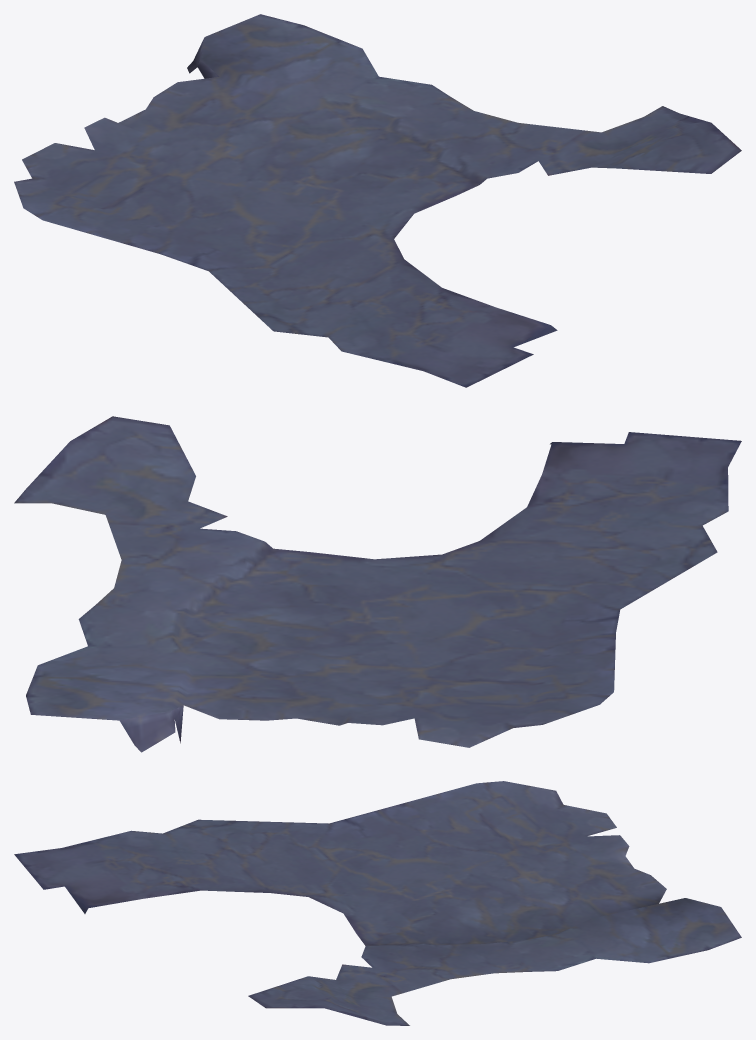
File: jifendixia_lumian.FBX
3 views of the same model, one above another, from view 1: azimuth 30°, elevation 25°; view 2: azimuth 150°, elevation 25°; view 3: azimuth 270°, elevation 25° (orthographic). The views are drawn at different scales.
Parts seen in each view (by area): view 1: Object001; view 2: Object001; view 3: Object001.
Boxes of the visible parts, x1,y1,x2,y2 form: Object001: (14,14,741,387); Object001: (14,416,741,752); Object001: (14,781,741,1025).
Size of the model in its own units: 5176 by 517 by 6476.
